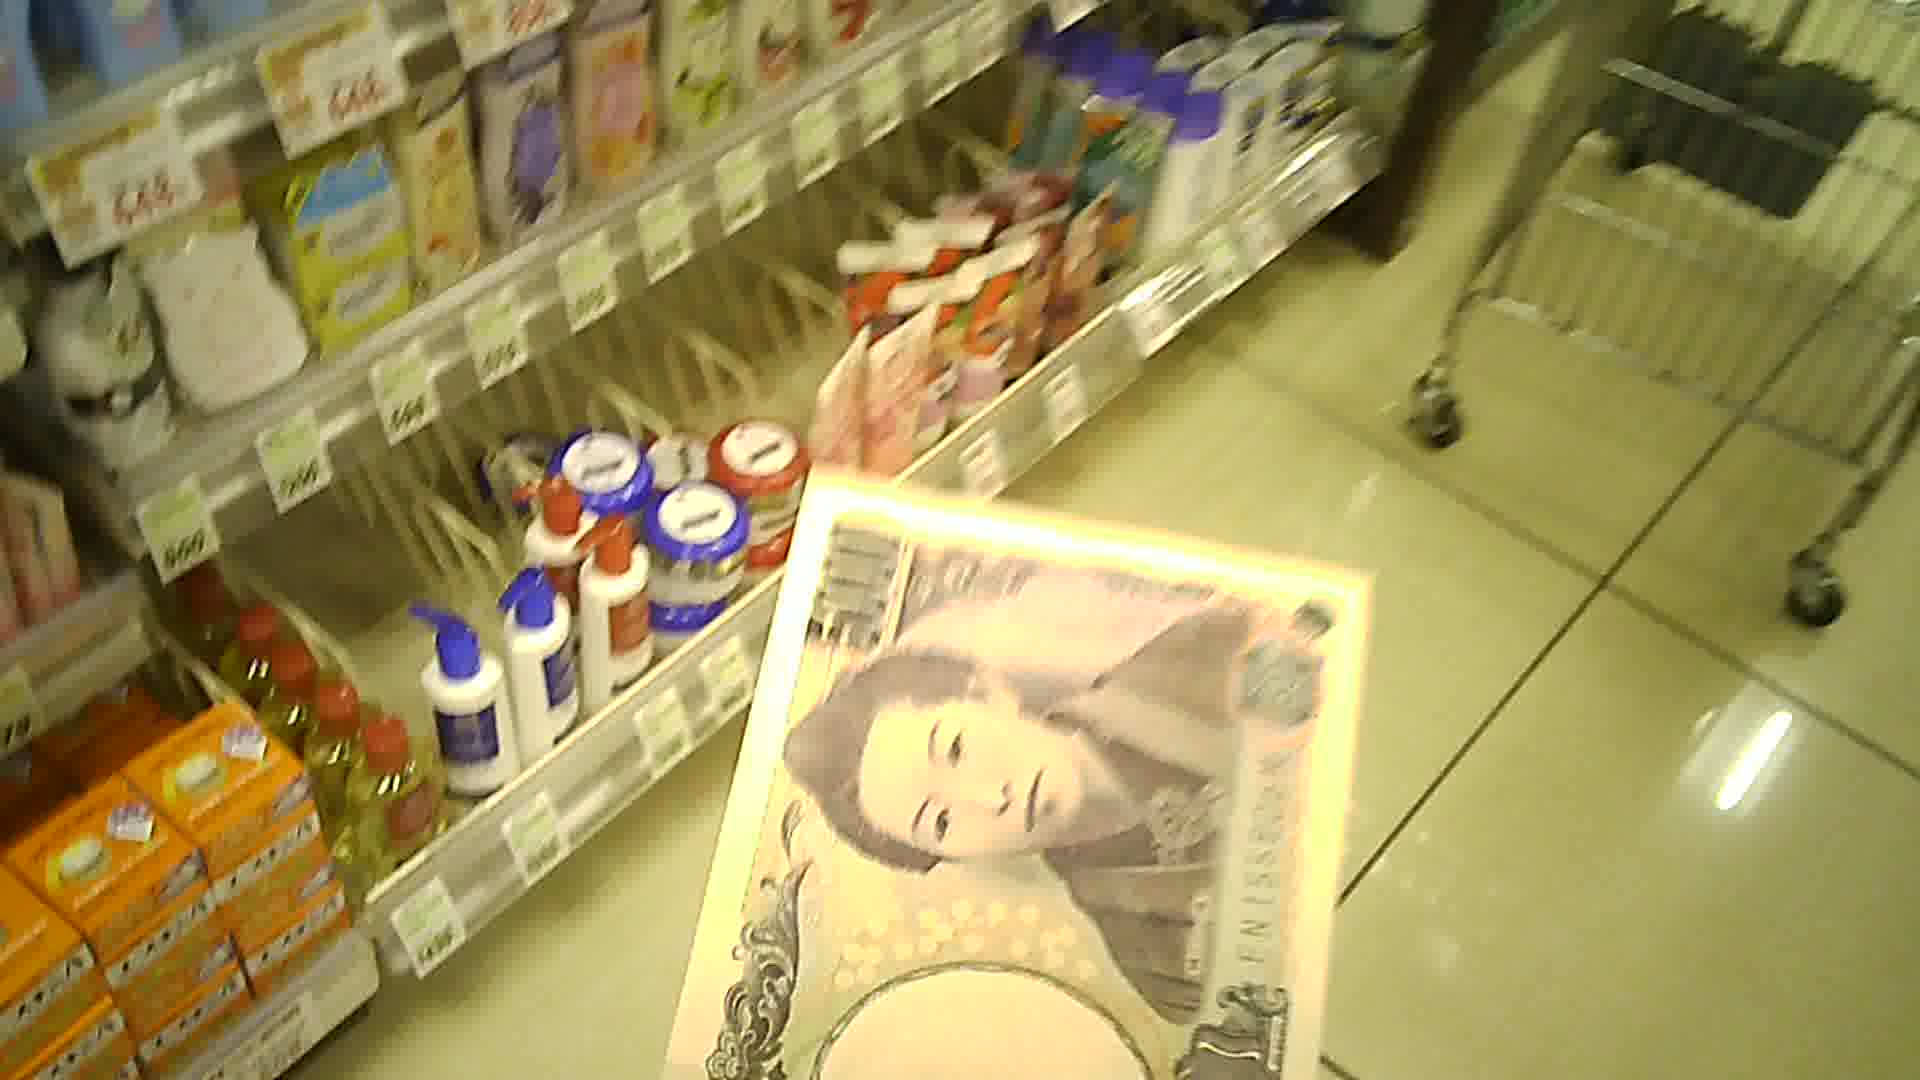5,000 Yen: (675, 446, 1338, 1060)
